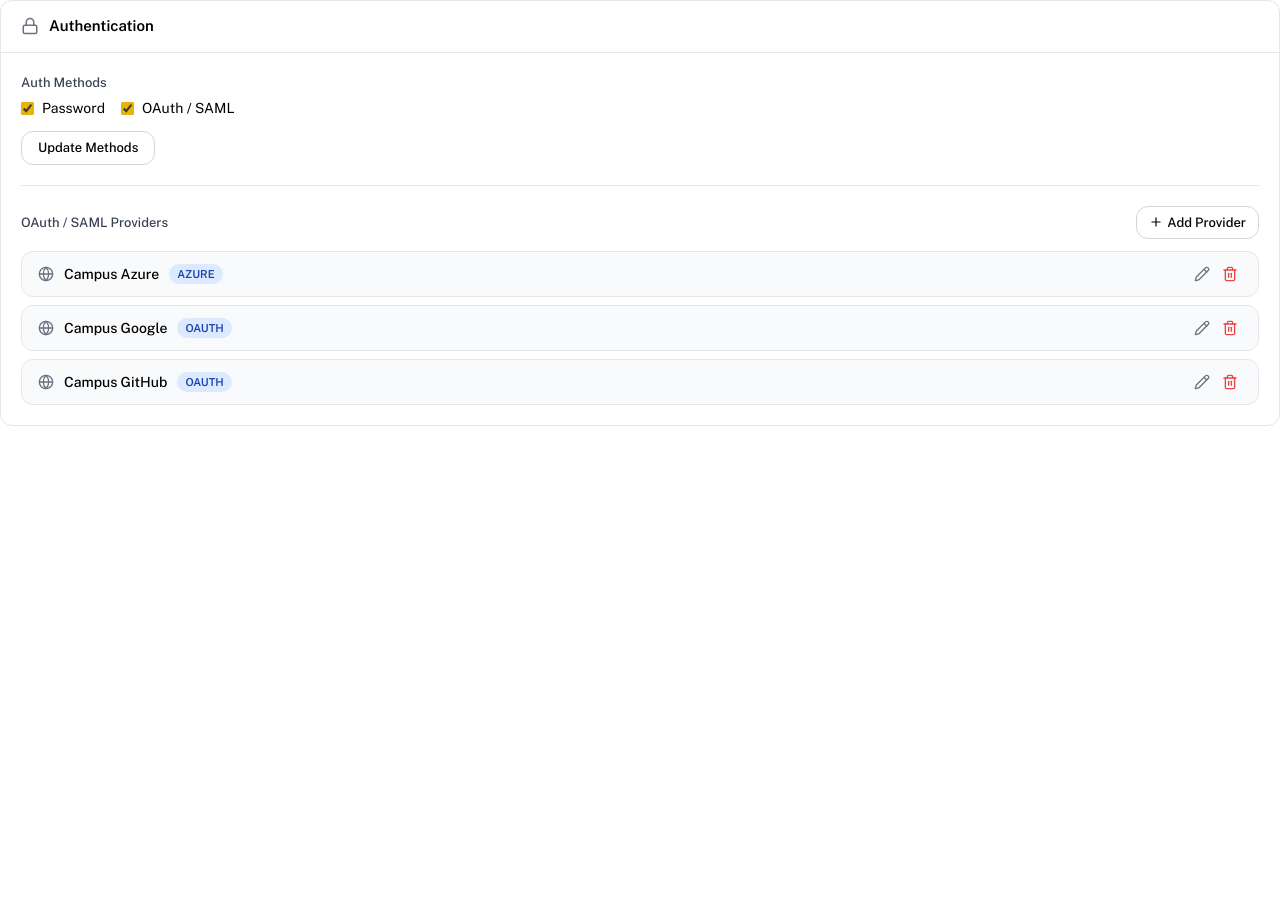
AuthPanel — edit survives a concurrent delete (wrong-record race) › deletion of the edited provider itself: the edit form goes with it, so a stale draft can never be submitted
The image size is (1280, 900).
Open the edit form on row 1 — prov-2.
Click the button named "Edit provider" in the row of "Campus Google". click: (1202, 328)
box: [1190,316,1214,340]
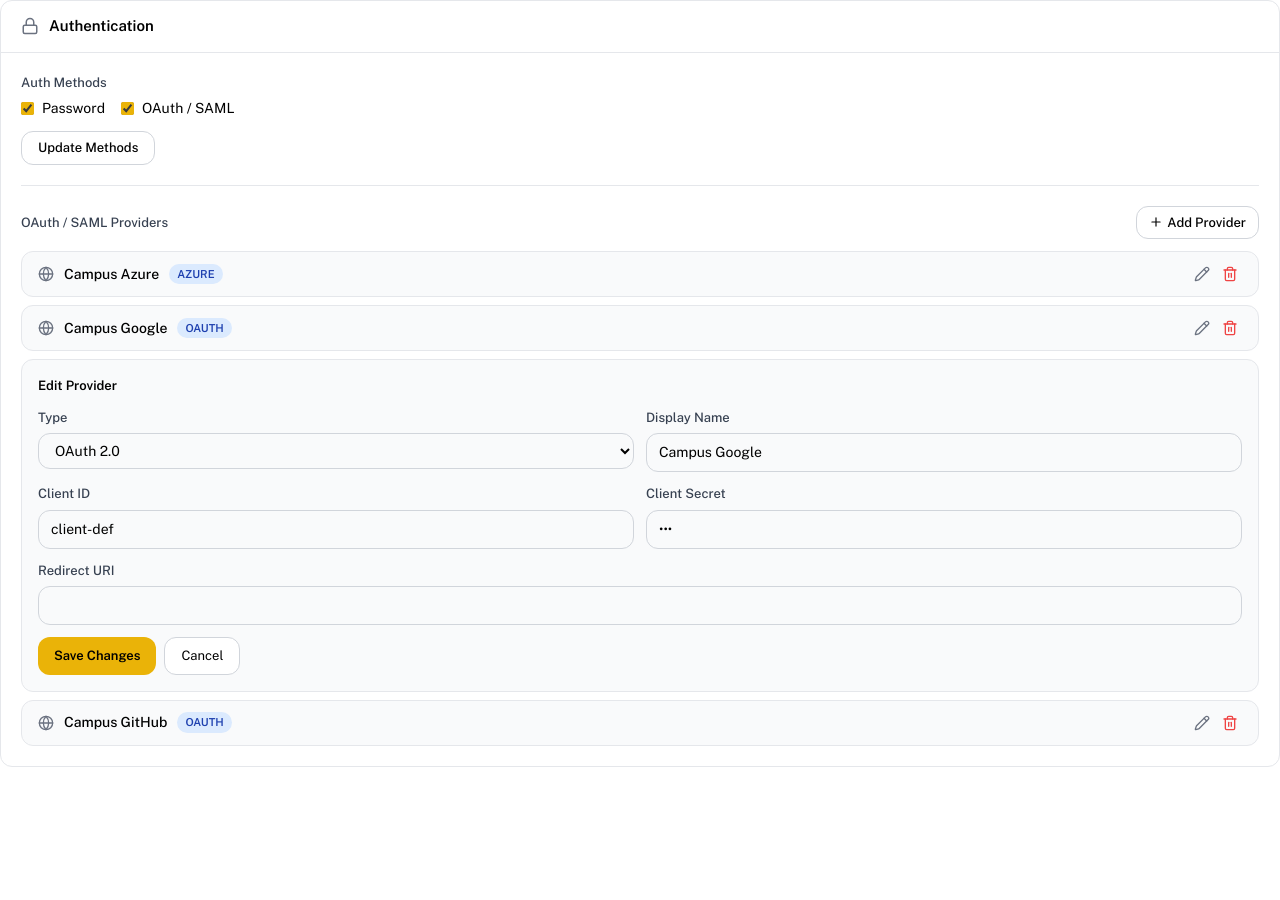
expect the field showing "Campus Google" is shown: met, box [646,433,1242,472]
